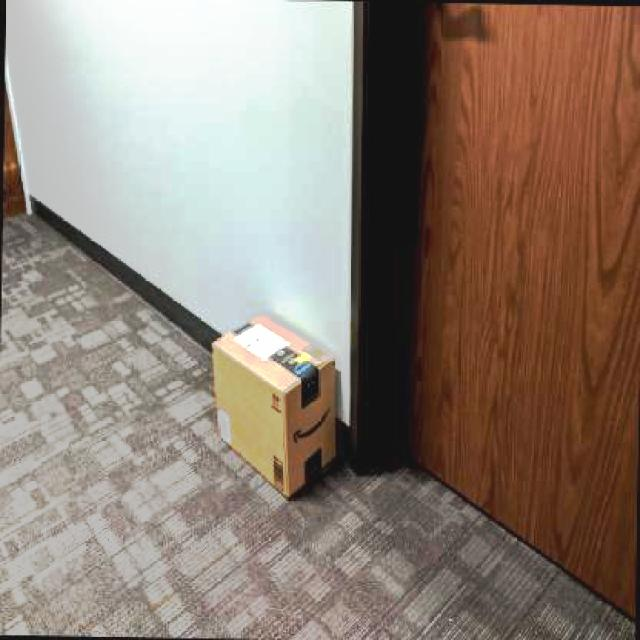Box: (205, 306, 344, 500)
